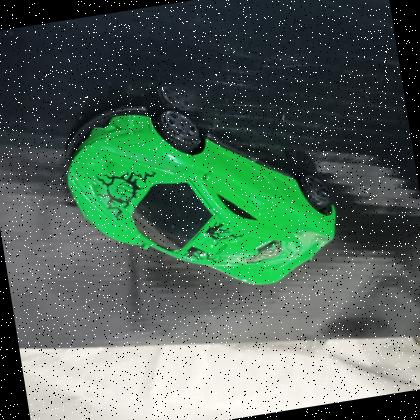Car: (50, 70, 356, 321)
